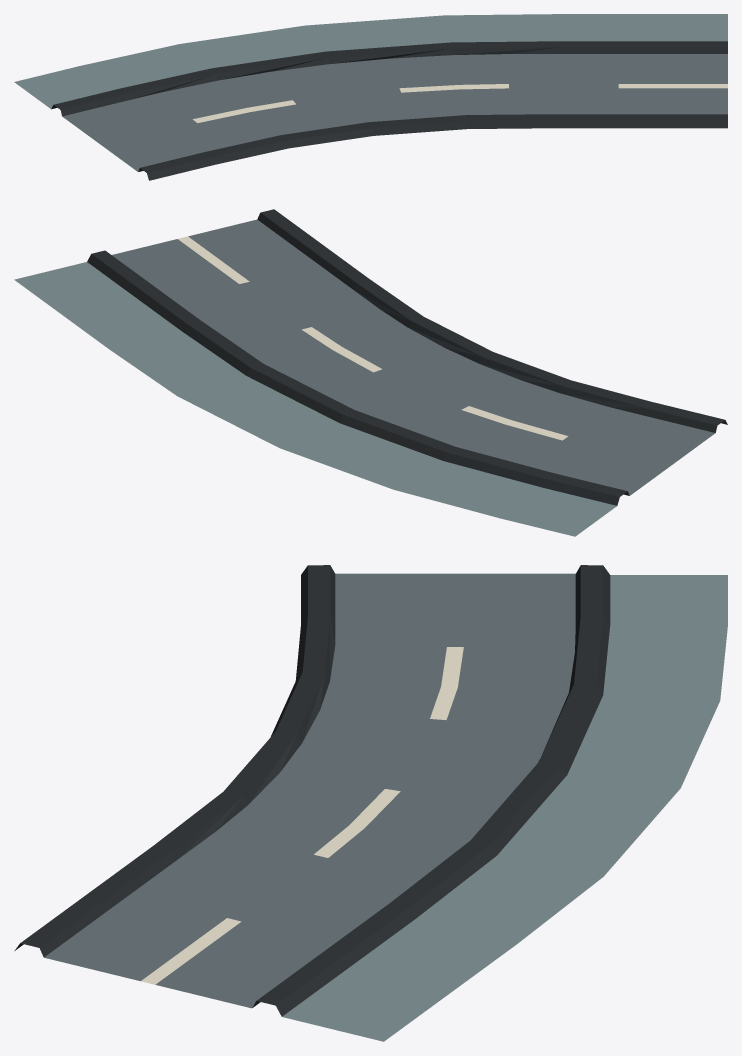
Rendered from Tentacule_Route_002.FBX.
3 views of the same model, one above another, from view 1: azimuth 30°, elevation 25°; view 2: azimuth 150°, elevation 25°; view 3: azimuth 270°, elevation 25° (orthographic). The views are drawn at different scales.
Parts seen in each view (by area): view 1: Tentacule_Terrain_002_30; view 2: Tentacule_Terrain_002_30; view 3: Tentacule_Terrain_002_30.
Part boxes in pixels (x1,y1,x2,y2): Tentacule_Terrain_002_30: (14, 14, 727, 180); Tentacule_Terrain_002_30: (14, 209, 727, 536); Tentacule_Terrain_002_30: (14, 565, 727, 1041).
Bounding box in the file's own units: 264 × 2.59 × 171.
